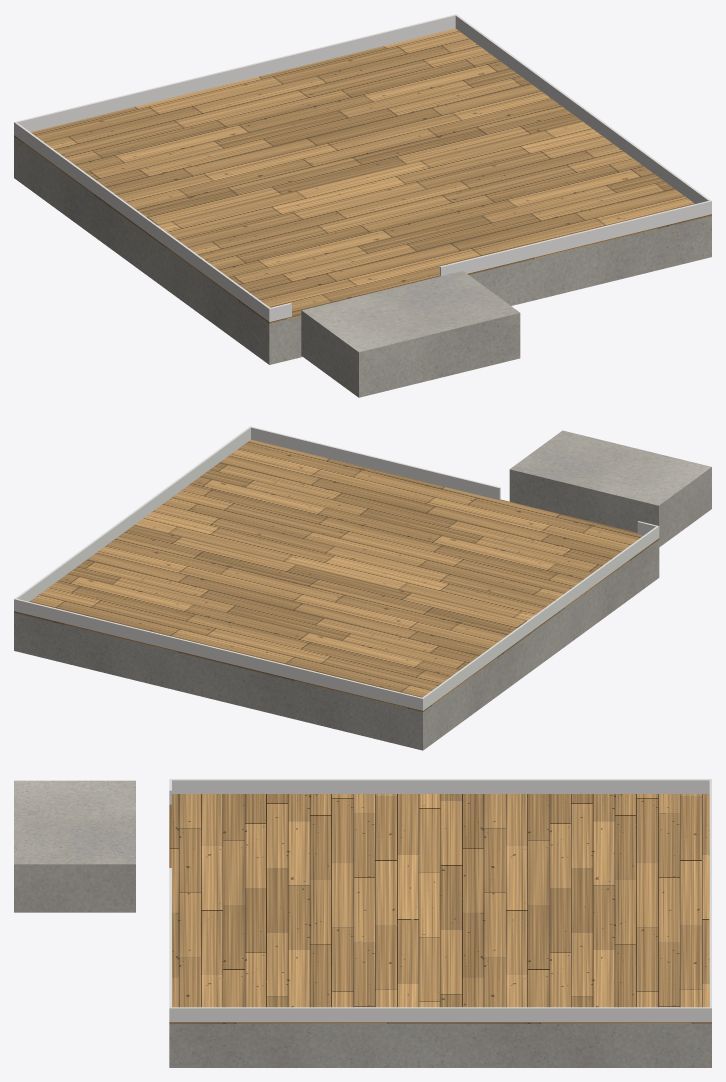
The model's file is o_floor.glb.
3 views of the same model, one above another, from view 1: azimuth 30°, elevation 25°; view 2: azimuth 150°, elevation 25°; view 3: azimuth 270°, elevation 25° (orthographic). The views are drawn at different scales.
Visible parts, largest first — view 1: o_floor_wood, o_floor_concrete, o_floor_trim; view 2: o_floor_wood, o_floor_concrete, o_floor_trim; view 3: o_floor_wood, o_floor_concrete, o_floor_trim.
Boxes of the visible parts, x1,y1,x2,y2 form: o_floor_wood: (14,28,711,323); o_floor_concrete: (14,137,711,397); o_floor_trim: (14,14,711,321); o_floor_wood: (14,439,659,712); o_floor_concrete: (14,430,711,750); o_floor_trim: (14,426,659,710); o_floor_wood: (169,794,711,1023); o_floor_concrete: (14,780,711,1067); o_floor_trim: (169,779,711,1022).
Size of the model in its own units: 3.56 by 0.48 by 4.58.
Materials: 3 (2 with a texture image).
